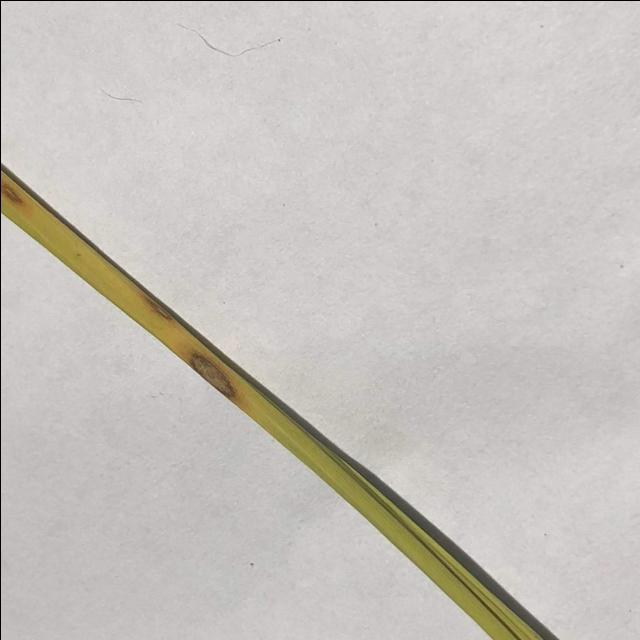Leaf blast: (0, 133, 570, 640)
